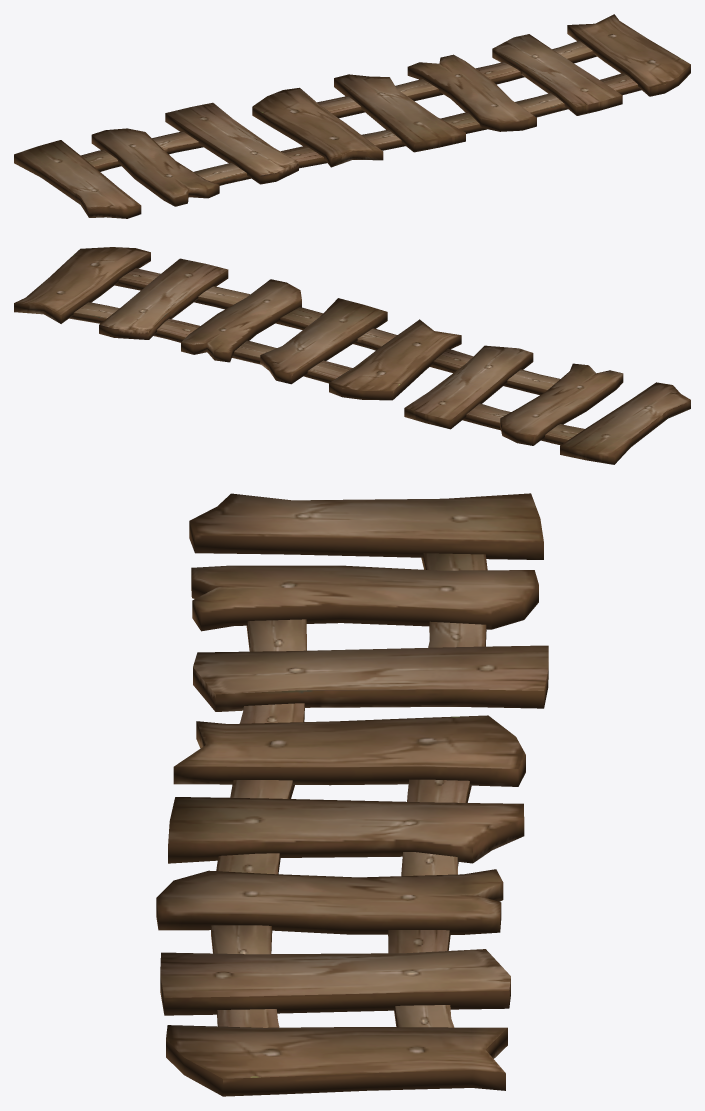
File: FB5_muban02.FBX
3 renders of one model, top to bottom at view 1: azimuth 30°, elevation 25°; view 2: azimuth 150°, elevation 25°; view 3: azimuth 270°, elevation 25°, orthographic. The views are drawn at different scales.
Parts seen in each view (by area): view 1: FB5_muban02; view 2: FB5_muban02; view 3: FB5_muban02.
Boxes of the visible parts, box(x1,y1,x2,y2) form: FB5_muban02: box(14, 14, 690, 218); FB5_muban02: box(14, 247, 690, 464); FB5_muban02: box(156, 493, 548, 1096).
Size of the model in its own units: 7267 by 151 by 2059.
1 material, 1 textured.
